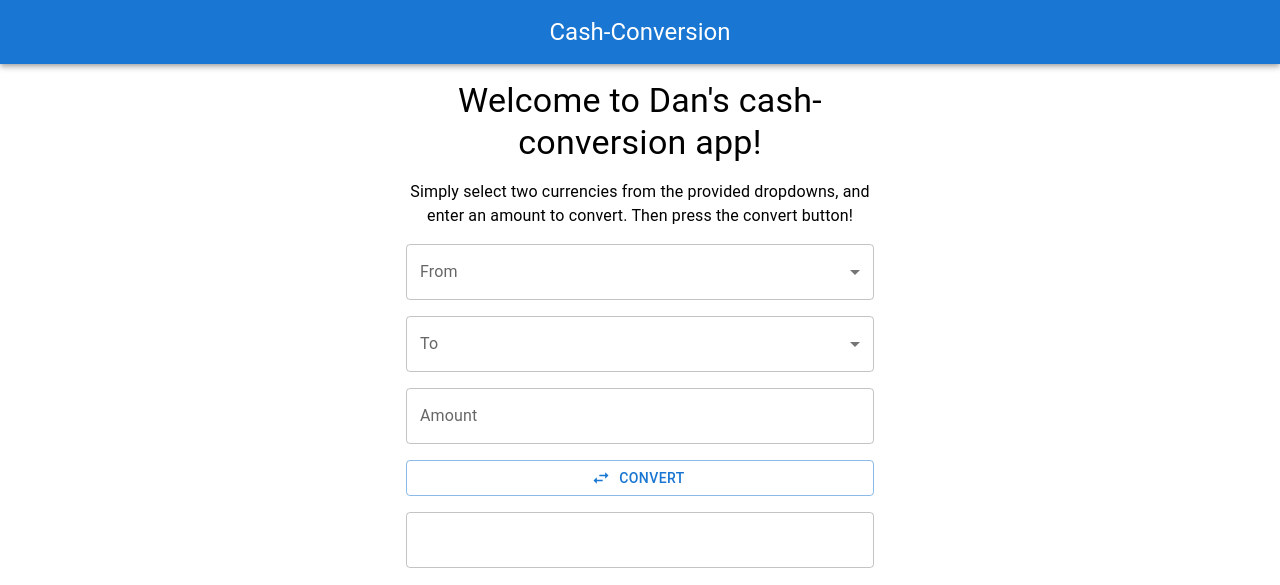
it: Homepage Tests › basic amount validation
In the number field labelled "Amount": (640, 416) [406,388,874,444], type "abc200@!#12"
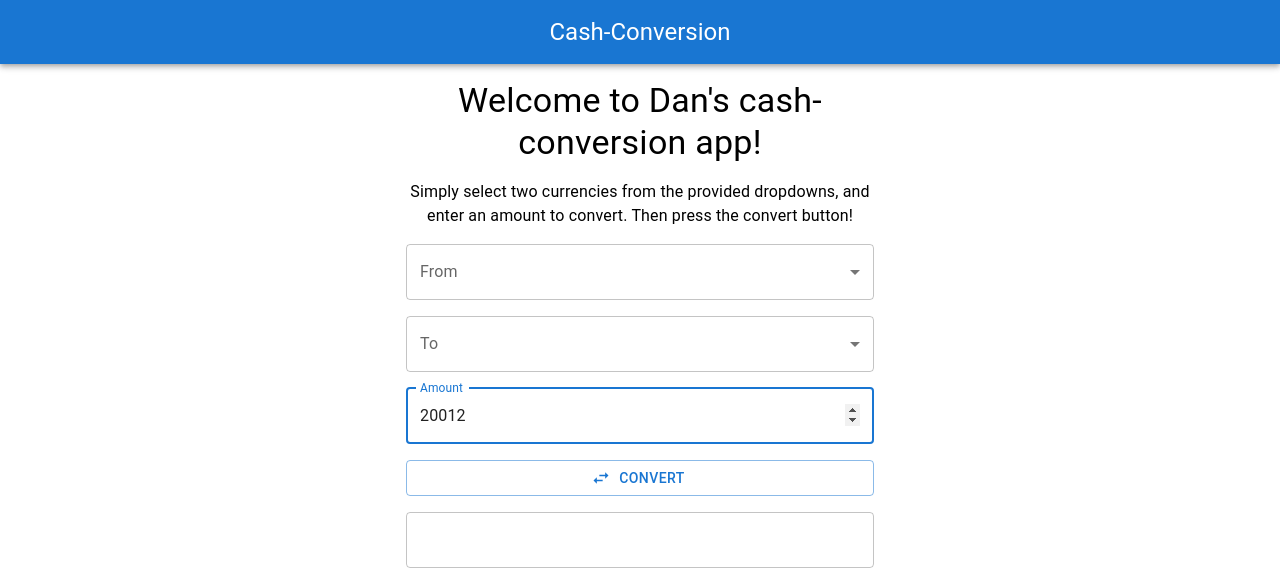
Expected: the number field labelled "Amount" holds "20012", [406,388,874,444]
